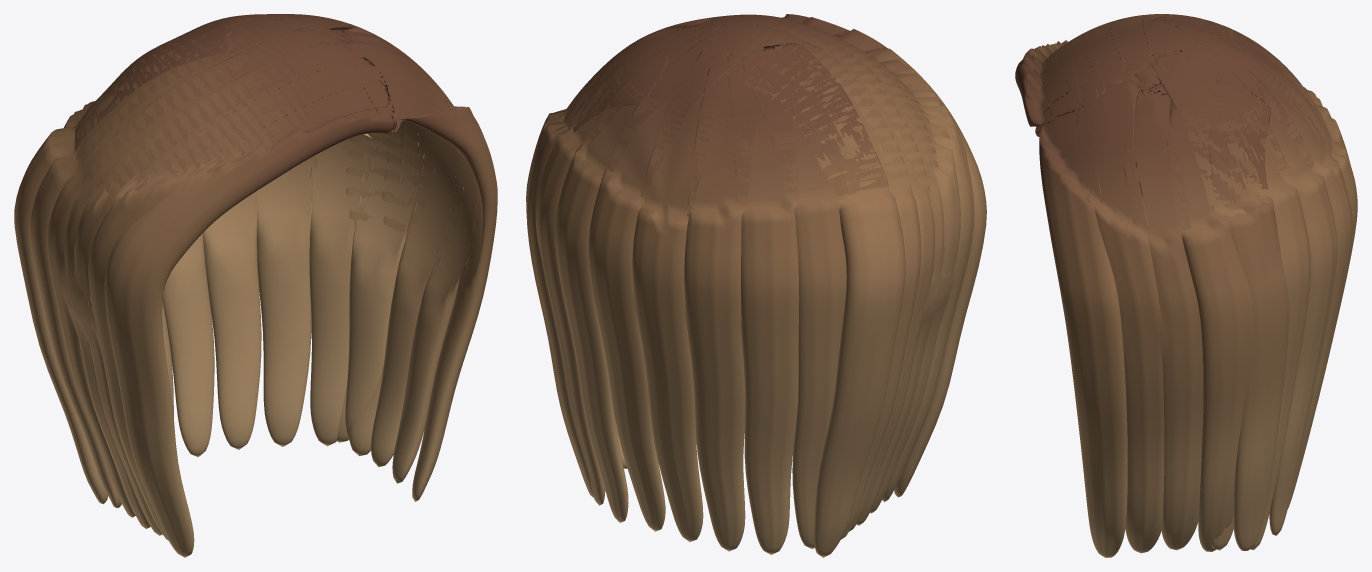
The model's file is Ombre-34c63707dc30253-hair.glb.
3 views of the same model, side by side, from view 1: azimuth 30°, elevation 25°; view 2: azimuth 150°, elevation 25°; view 3: azimuth 270°, elevation 25° (orthographic). The views are drawn at different scales.
Parts seen in each view (by area): view 1: 226 hair / Hair / sculpted 0.001, 226 hair / Hair / sculpted 1.002, 226 hair / Hair / sculpted 2.001; view 2: 226 hair / Hair / sculpted 0.001, 226 hair / Hair / sculpted 2.001, 226 hair / Hair / sculpted 1.002; view 3: 226 hair / Hair / sculpted 1.002, 226 hair / Hair / sculpted 2.001, 226 hair / Hair / sculpted 0.001.
Part boxes in pixels (x1=…): 226 hair / Hair / sculpted 0.001: x1=14, y1=14, x2=463, y2=557; 226 hair / Hair / sculpted 1.002: x1=47, y1=14, x2=497, y2=540; 226 hair / Hair / sculpted 2.001: x1=30, y1=14, x2=480, y2=535; 226 hair / Hair / sculpted 0.001: x1=555, y1=14, x2=986, y2=557; 226 hair / Hair / sculpted 2.001: x1=526, y1=14, x2=960, y2=549; 226 hair / Hair / sculpted 1.002: x1=526, y1=14, x2=974, y2=554; 226 hair / Hair / sculpted 1.002: x1=1031, y1=14, x2=1352, y2=557; 226 hair / Hair / sculpted 2.001: x1=1056, y1=14, x2=1357, y2=553; 226 hair / Hair / sculpted 0.001: x1=1015, y1=14, x2=1349, y2=550.
Bounding box in the file's own units: 1.02 × 1.17 × 0.7803.
Materials: 4 (4 with a texture image).
